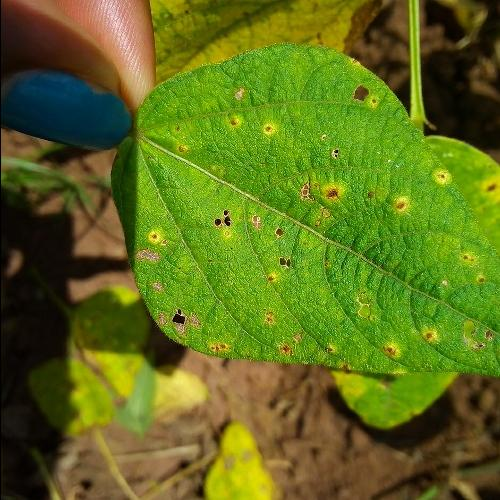hawar: (168, 116, 288, 156), (357, 317, 440, 367), (383, 166, 446, 223), (126, 224, 170, 294), (256, 222, 290, 307), (293, 178, 346, 229), (335, 78, 376, 130), (154, 300, 201, 337), (458, 322, 497, 358), (262, 328, 306, 359), (462, 246, 484, 299), (207, 200, 240, 235)
